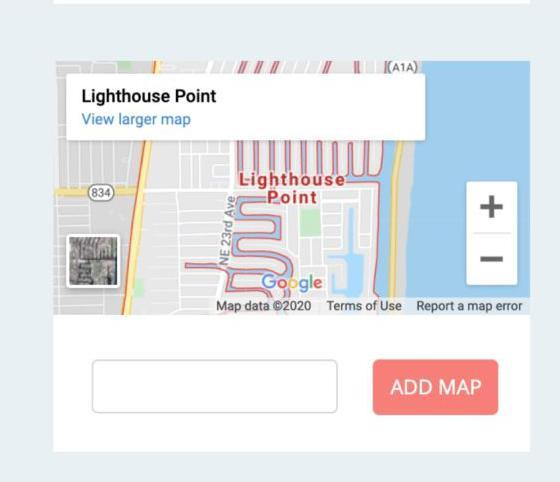button: (373, 360, 500, 418)
input: (94, 360, 339, 414)
